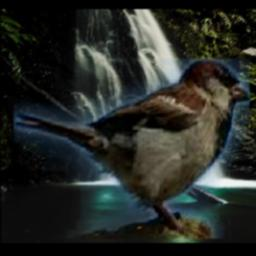Sparrow: (14, 59, 250, 240)
